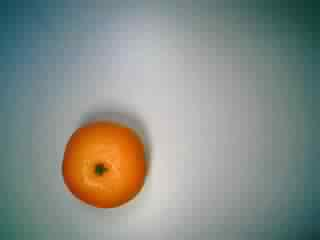orange: (56, 120, 151, 212)
